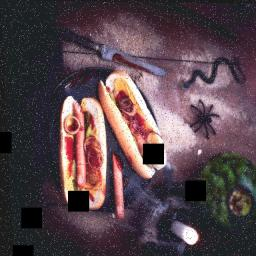hotdog: (96, 70, 171, 176), (55, 91, 108, 215)
